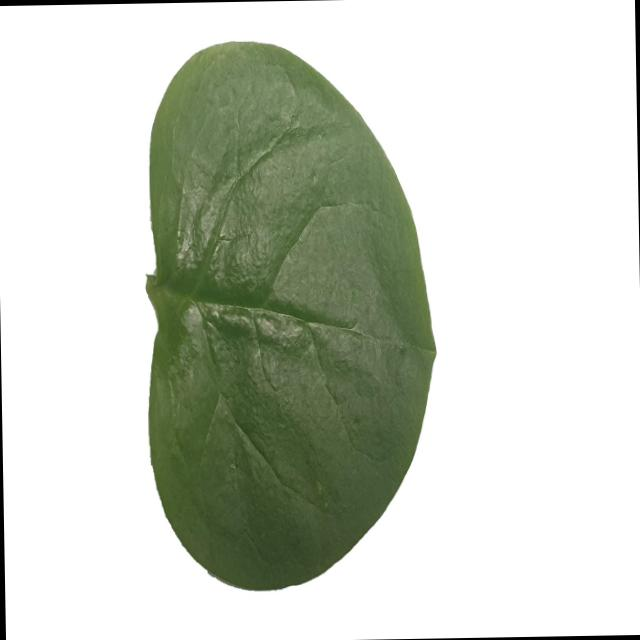Medicinal-Basale: (140, 34, 440, 593)
